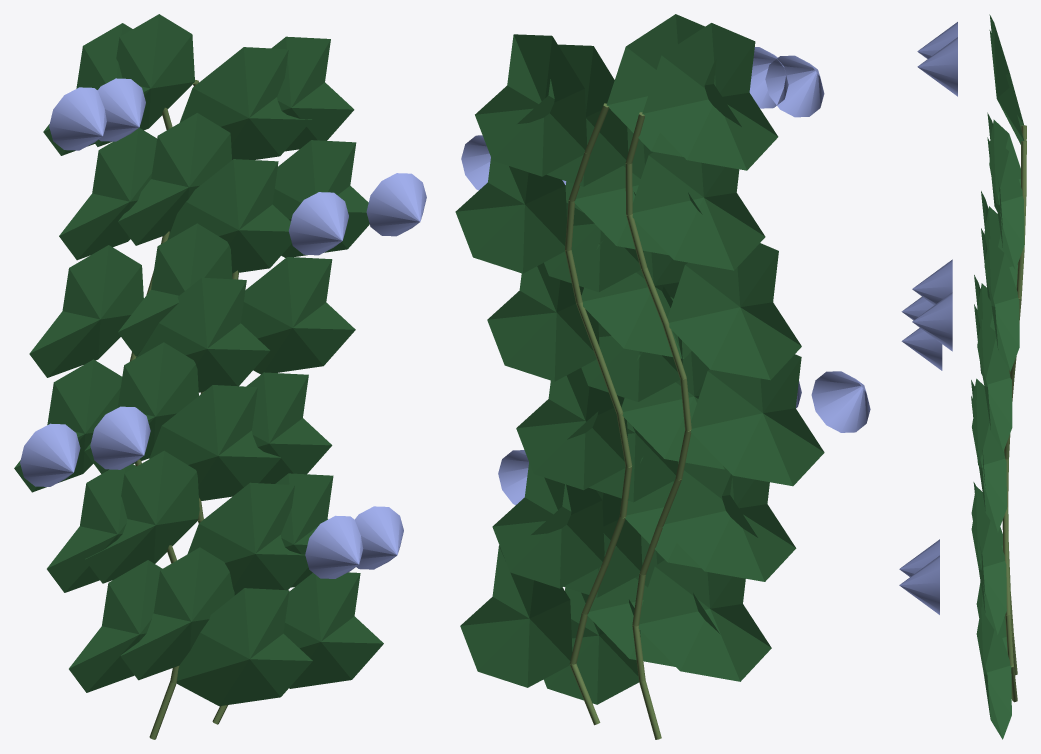
The model's file is thunbergia-grandiflora.glb.
3 views of the same model, side by side, from view 1: azimuth 30°, elevation 25°; view 2: azimuth 150°, elevation 25°; view 3: azimuth 270°, elevation 25° (orthographic). The views are drawn at different scales.
Visible parts, largest first — view 1: Climber species leaves, Species flowers / bracts, Climber species stems; view 2: Climber species leaves, Climber species stems, Species flowers / bracts; view 3: Climber species leaves, Species flowers / bracts, Climber species stems.
Part boxes in pixels (bbox=[...]): Climber species leaves: bbox=[14, 14, 383, 706]; Species flowers / bracts: bbox=[20, 78, 426, 578]; Climber species stems: bbox=[129, 80, 238, 739]; Climber species leaves: bbox=[455, 14, 824, 704]; Climber species stems: bbox=[565, 103, 691, 739]; Species flowers / bracts: bbox=[461, 47, 870, 505]; Climber species leaves: bbox=[971, 14, 1024, 739]; Species flowers / bracts: bbox=[899, 22, 957, 614]; Climber species stems: bbox=[1002, 125, 1026, 702].
Bounding box in the file's own units: 0.526 × 0.8959 × 0.1636.
